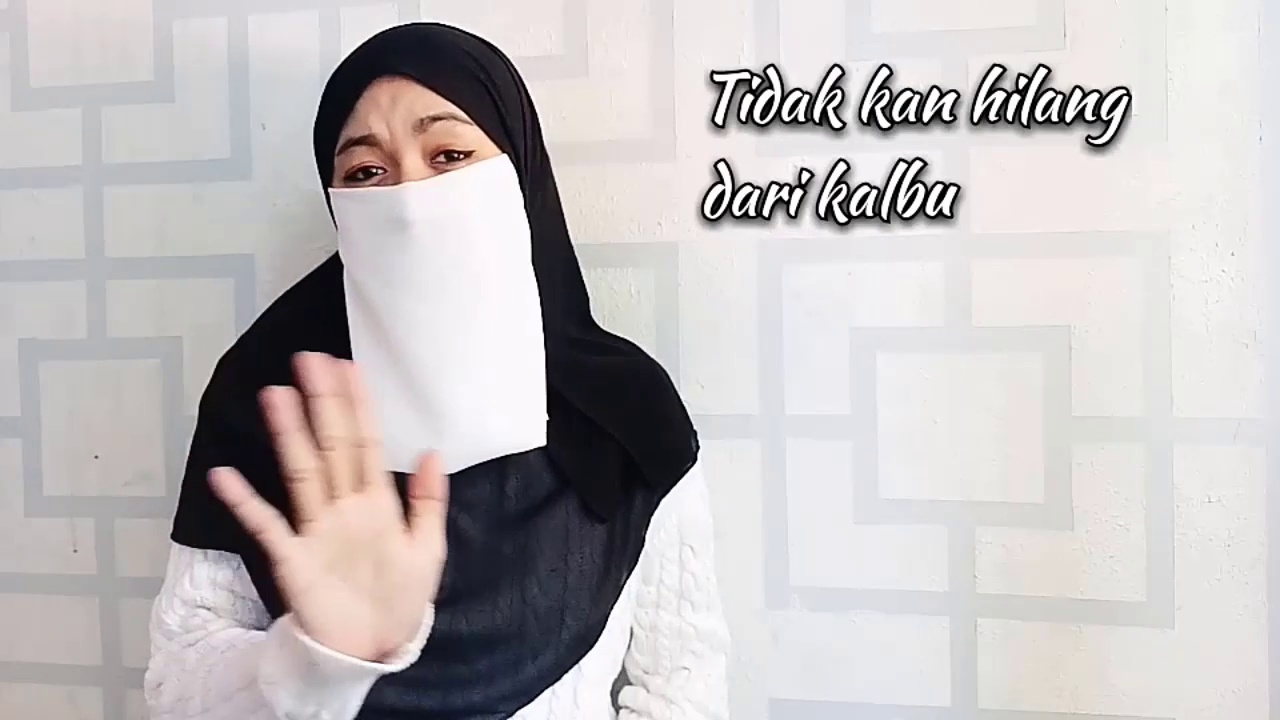TIDAK: (199, 21, 541, 686)
